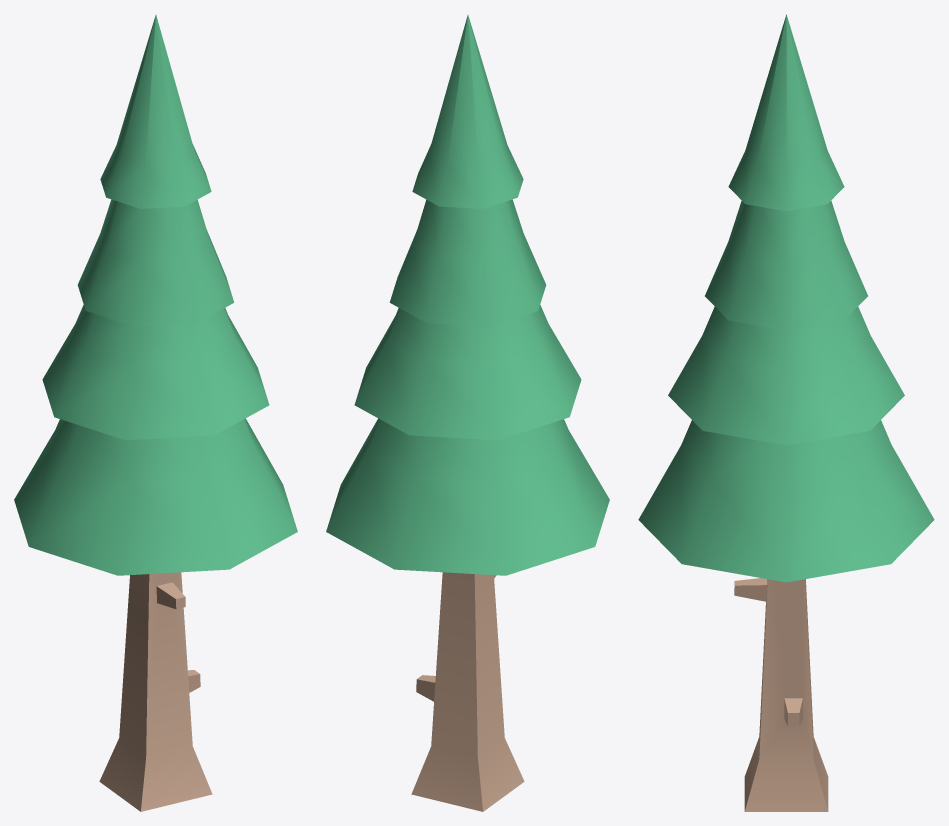
File: tree5.fbx
3 views of the same model, side by side, from view 1: azimuth 30°, elevation 25°; view 2: azimuth 150°, elevation 25°; view 3: azimuth 270°, elevation 25° (orthographic).
Visible parts, largest first — view 1: treeHigh; view 2: treeHigh; view 3: treeHigh.
Boxes of the visible parts, bbox=[...] form: treeHigh: bbox=[14, 15, 297, 811]; treeHigh: bbox=[326, 15, 609, 811]; treeHigh: bbox=[638, 14, 934, 811].
Size of the model in its own units: 365 by 1061 by 365.
